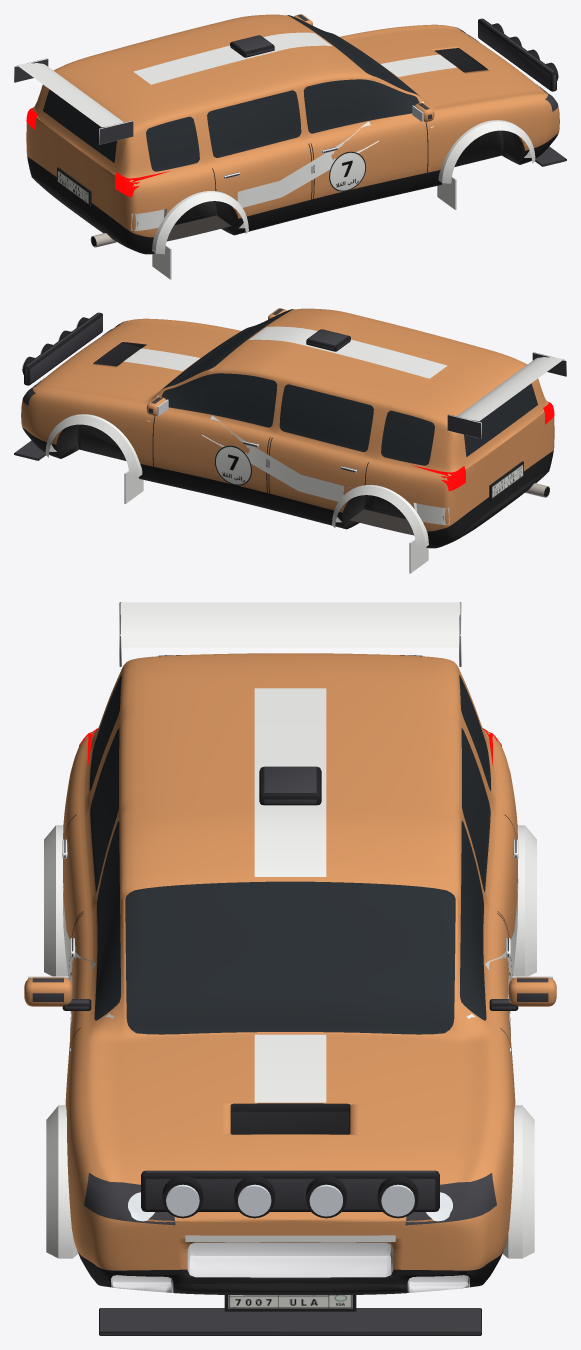
Rendered from SM_AlUlaRally_Body.fbx.
3 renders of one model, top to bottom at view 1: azimuth 30°, elevation 25°; view 2: azimuth 150°, elevation 25°; view 3: azimuth 270°, elevation 25°, orthographic. The views are drawn at different scales.
Visible parts, largest first — view 1: SM_AlUlaRally_Body; view 2: SM_AlUlaRally_Body; view 3: SM_AlUlaRally_Body.
Part boxes in pixels (left/top/right/bottom): SM_AlUlaRally_Body: left=14, top=14, right=566, bottom=279; SM_AlUlaRally_Body: left=14, top=308, right=566, bottom=573; SM_AlUlaRally_Body: left=24, top=602, right=556, bottom=1335.
Bounding box in the file's own units: 455 × 149 × 222.
